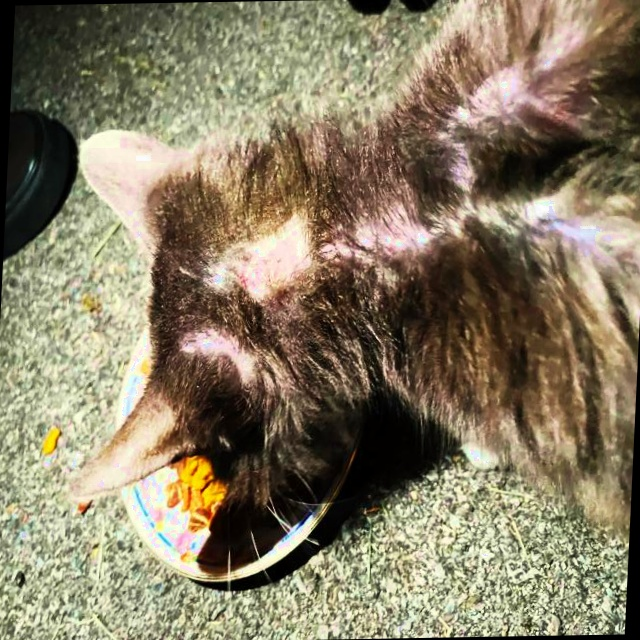hairloss: (342, 189, 550, 258), (208, 223, 318, 302), (181, 328, 256, 376)
